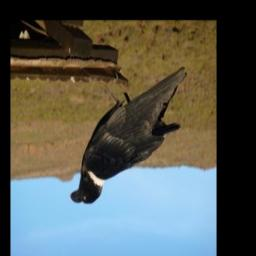Crow: (68, 66, 187, 209)
